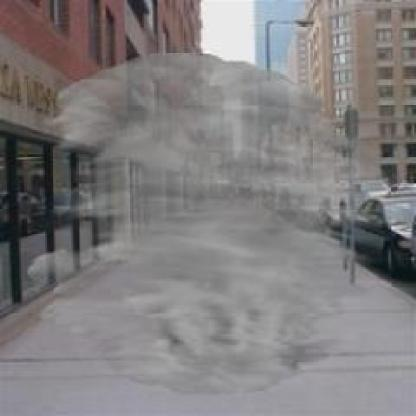Smoke: (26, 52, 392, 395)
